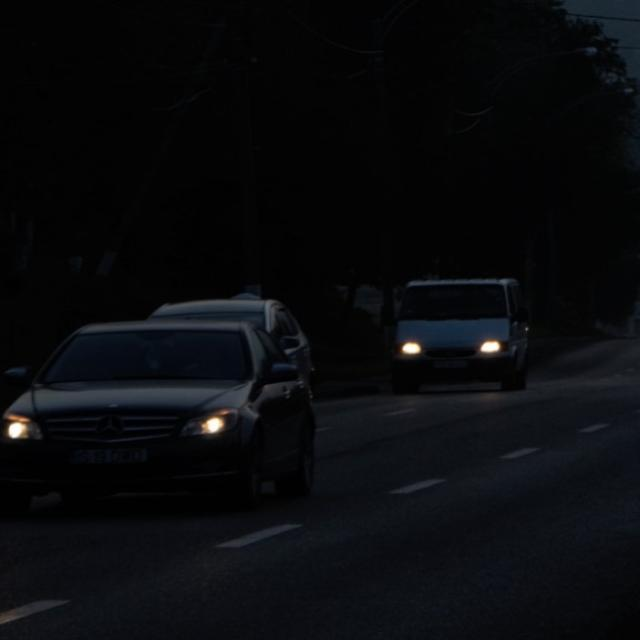car: (3, 319, 314, 513), (150, 292, 316, 400), (396, 275, 532, 396)
